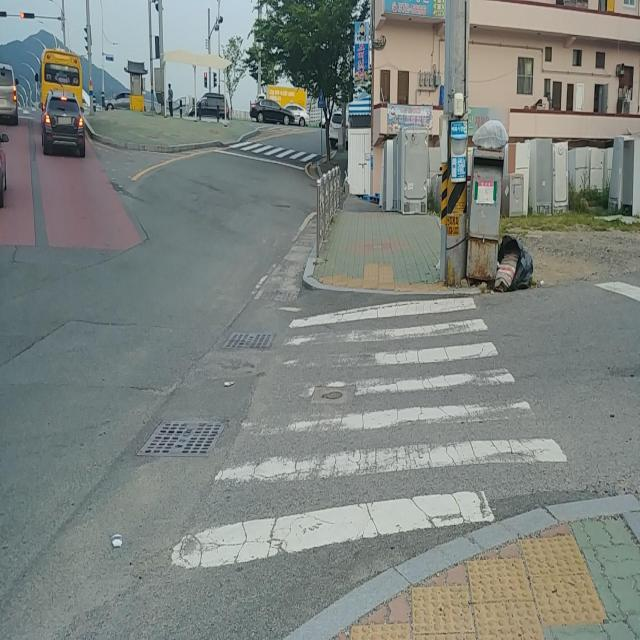횡단보도: (171, 295, 567, 573), (232, 133, 324, 165)
